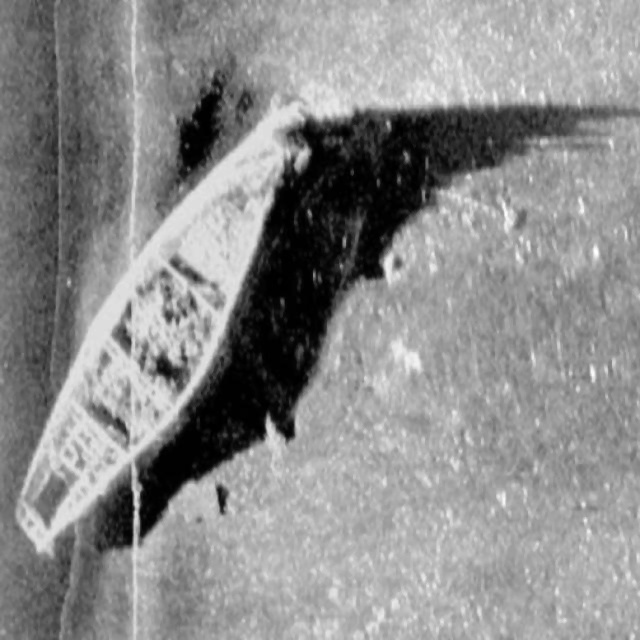Ship: (7, 81, 336, 564)
